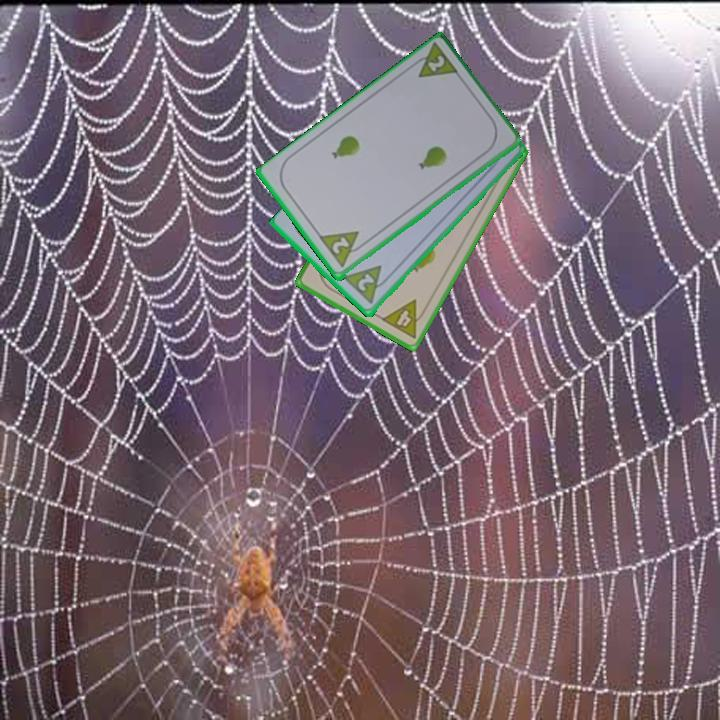2p: (328, 234, 352, 258), (354, 270, 377, 295), (424, 52, 448, 75)
4p: (378, 296, 431, 342)
